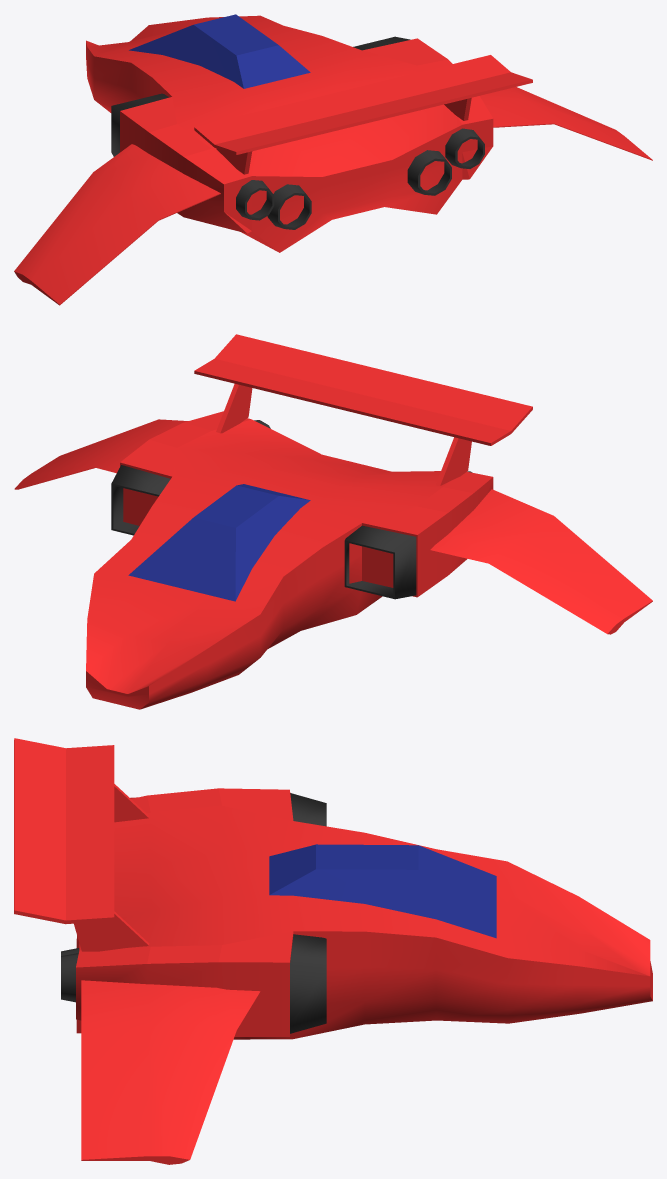
File: car01.FBX
3 renders of one model, top to bottom at view 1: azimuth 30°, elevation 25°; view 2: azimuth 150°, elevation 25°; view 3: azimuth 270°, elevation 25°, orthographic. The views are drawn at different scales.
Visible parts, largest first — view 1: car, Box001, Line001, Box004, Tube002, Tube001, Tube004, Tube003, Tube005, Box002; view 2: car, Box001, Line001, Box004, Tube005, Tube006, Box003, Box002; view 3: car, Box001, Line001, Box004, Tube006, Box003, Tube005, Box002, Tube004.
Boxes of the visible parts, x1,y1,x2,y2 form: car: [86, 15, 493, 252]; Box001: [14, 87, 652, 305]; Line001: [194, 55, 532, 154]; Box004: [129, 14, 310, 88]; Tube002: [407, 150, 451, 195]; Tube001: [267, 184, 311, 229]; Tube004: [445, 128, 484, 168]; Tube003: [236, 180, 274, 220]; Tube005: [111, 93, 169, 156]; Box002: [216, 148, 252, 174]; car: [86, 411, 493, 709]; Box001: [14, 419, 652, 634]; Line001: [194, 334, 532, 445]; Box004: [128, 484, 310, 601]; Tube005: [344, 525, 416, 599]; Tube006: [111, 465, 170, 535]; Box003: [216, 384, 252, 433]; Box002: [435, 437, 471, 485]; car: [76, 788, 652, 1039]; Box001: [81, 797, 260, 1164]; Line001: [14, 738, 114, 924]; Box004: [269, 844, 496, 938]; Tube006: [290, 934, 326, 1033]; Box003: [74, 911, 149, 951]; Tube005: [290, 793, 326, 826]; Box002: [114, 784, 148, 822]; Tube004: [61, 953, 78, 1000].
Size of the model in its own units: 20 by 4.56 by 15.67.
